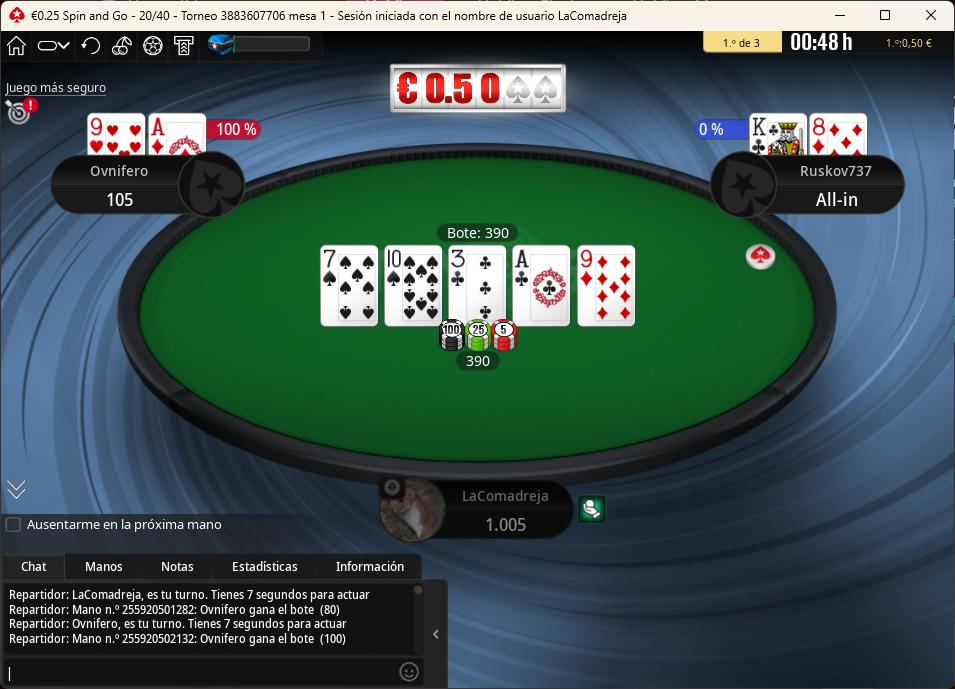Dealer: (742, 243, 778, 273)
Player: (710, 150, 908, 219), (53, 153, 246, 219)
PlayerChips: (806, 188, 873, 210), (477, 517, 538, 537), (97, 191, 141, 209)
Pot: (436, 222, 520, 241)
PrincipalPlayer: (373, 478, 571, 545)
ShowedCards: (318, 245, 577, 329)
ShowedCards1: (319, 246, 384, 331)
ShowedCards2: (384, 246, 446, 329)
ShowedCards3: (446, 246, 509, 326)
ShowedCards4: (511, 247, 572, 329)
ShowedCards5: (571, 246, 639, 330)
SmallBigBlind: (129, 6, 180, 25)
TablePot: (437, 309, 522, 375)
